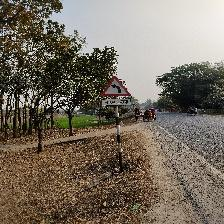Left-Turn: (99, 76, 132, 108)
